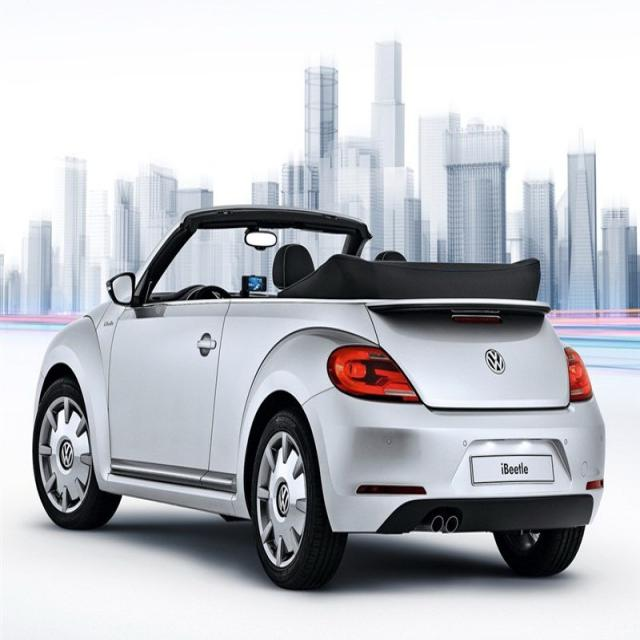back_left_side_light: (324, 336, 422, 404)
back_right_side_light: (562, 339, 592, 405)
front_glass: (146, 219, 354, 296)
front_left_side_door: (103, 286, 234, 488)
front_left_side_mirror: (106, 271, 139, 309)
rear_bumper: (301, 385, 607, 533)
wheel: (251, 413, 330, 587), (34, 379, 114, 528)
